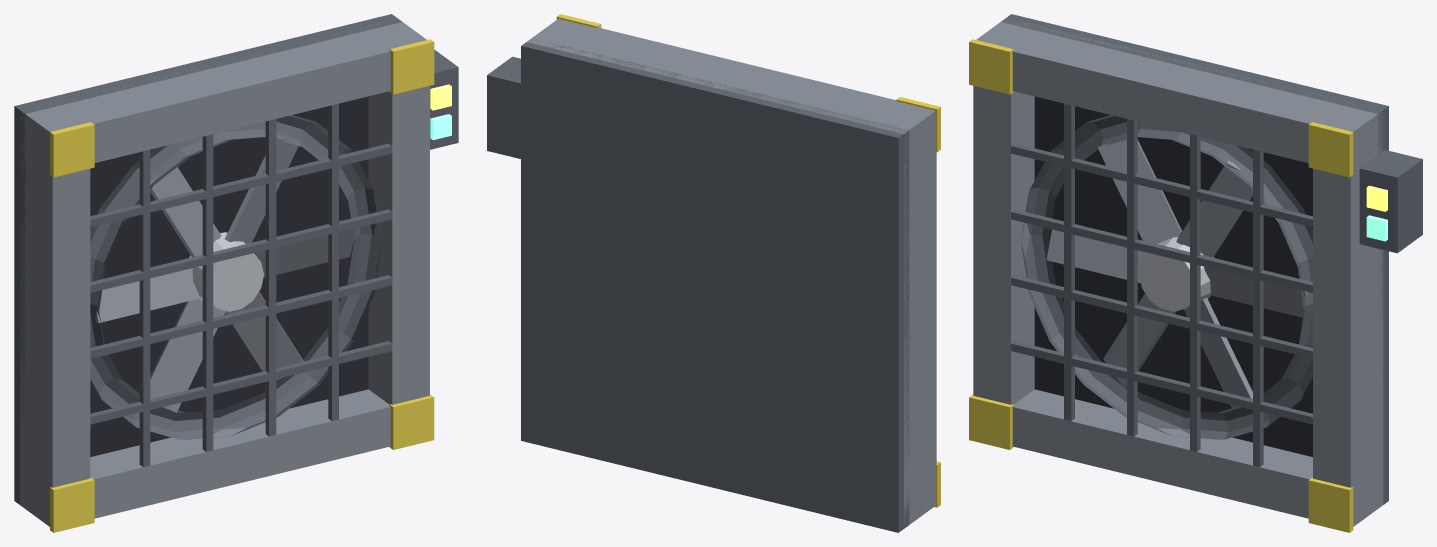
Rendered from wall_vent_fan.glb.
3 views of the same model, side by side, from view 1: azimuth 30°, elevation 25°; view 2: azimuth 150°, elevation 25°; view 3: azimuth 330°, elevation 25° (orthographic).
Parts seen in each view (by area): view 1: WallVentFan; view 2: WallVentFan; view 3: WallVentFan.
Boxes of the visible parts, x1,y1,x2,y2 form: WallVentFan: (14,14,458,532); WallVentFan: (487,14,940,532); WallVentFan: (969,14,1422,532).
Bounding box in the file's own units: 2.65 × 2.42 × 0.45.
